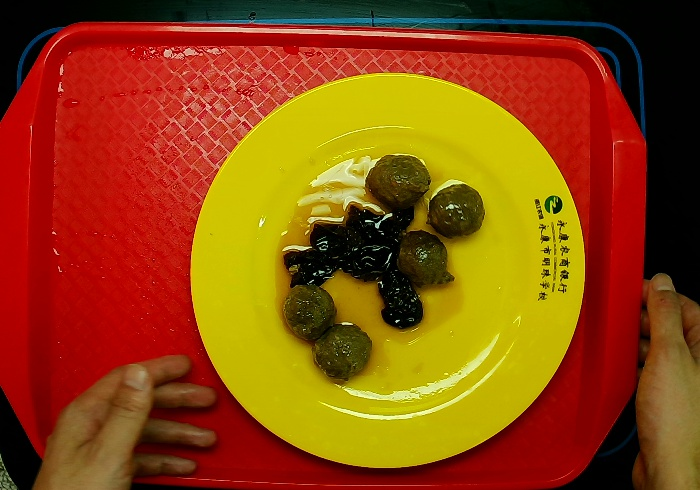YKMZ-Huang_Se_Mian_Pan: (185, 67, 589, 476)
